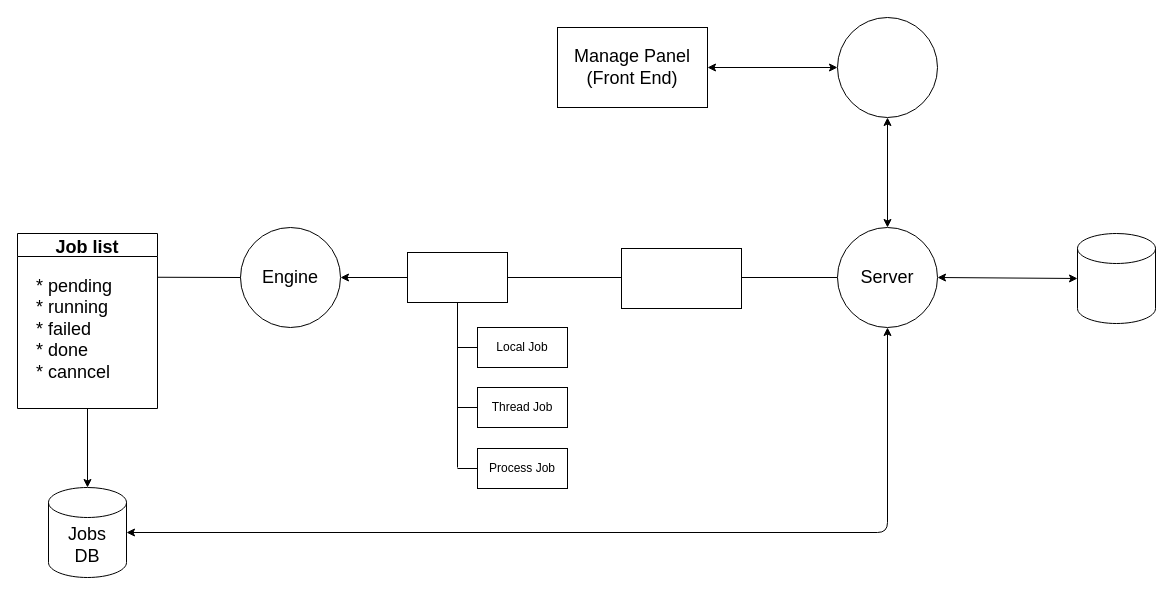
Image size: 1173x595. Some labels were removed from this diagram. Here are the shapes that lost their labels. From the top down, the box of each, then its label:
(836, 16, 938, 118): Client
(406, 252, 508, 302): Job
(620, 248, 742, 308): Function List
(1076, 232, 1156, 324): Users DB
